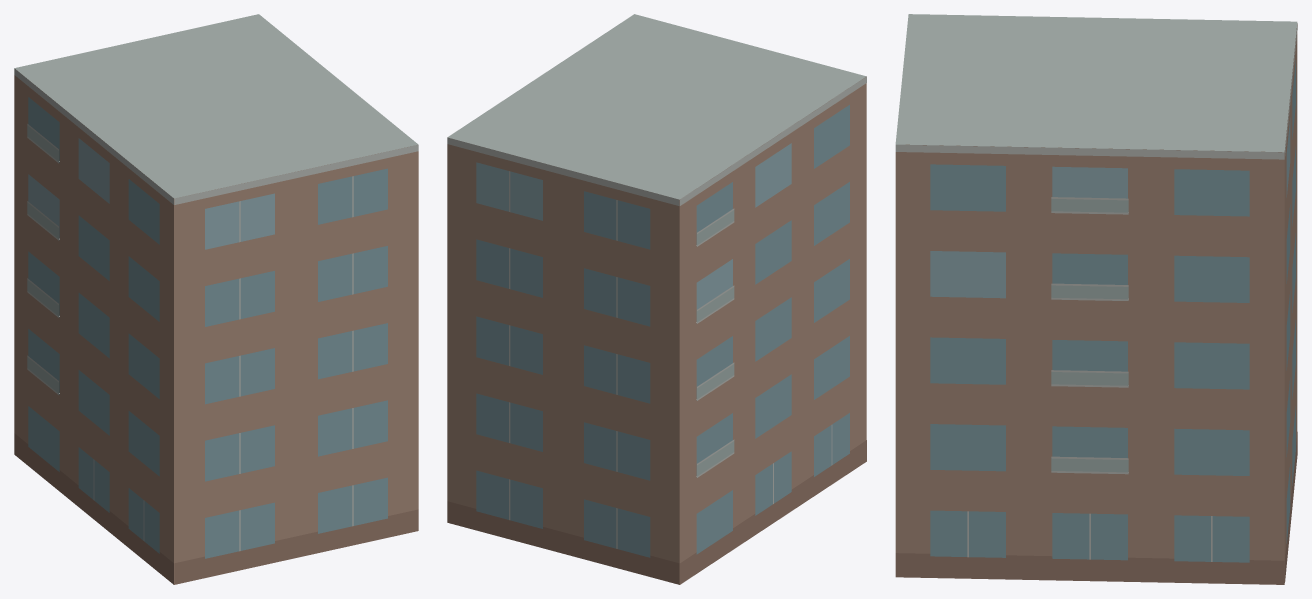
Rendered from survey-upis-32838811.glb.
The picture shows the model from 3 angles, left to right: view 1: azimuth 30°, elevation 25°; view 2: azimuth 150°, elevation 25°; view 3: azimuth 270°, elevation 25°; orthographic projection. The views are drawn at different scales.
Visible parts, largest first — view 1: survey-upis-32838811.tmp; view 2: survey-upis-32838811.tmp; view 3: survey-upis-32838811.tmp.
Boxes of the visible parts, x1=… form: survey-upis-32838811.tmp: x1=14, y1=14, x2=418, y2=584; survey-upis-32838811.tmp: x1=447, y1=14, x2=866, y2=584; survey-upis-32838811.tmp: x1=895, y1=14, x2=1297, y2=584.
Size of the model in its own units: 9.73 by 14.2 by 11.96.
